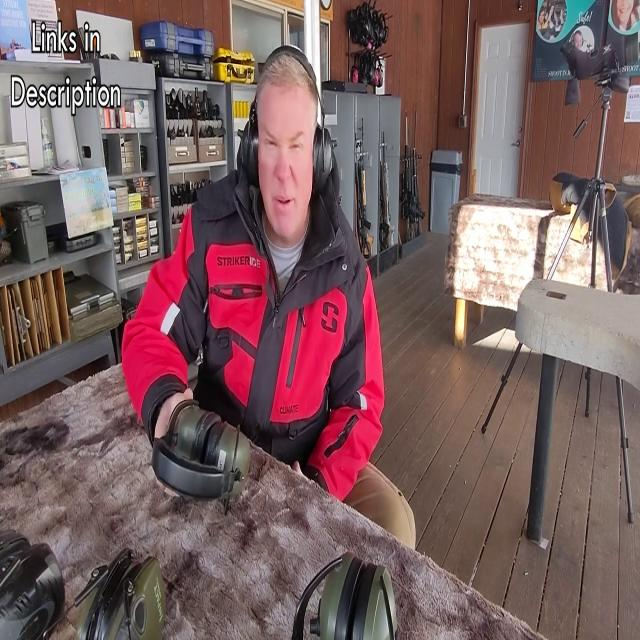earmuff: (234, 110, 262, 194), (312, 121, 340, 204)
